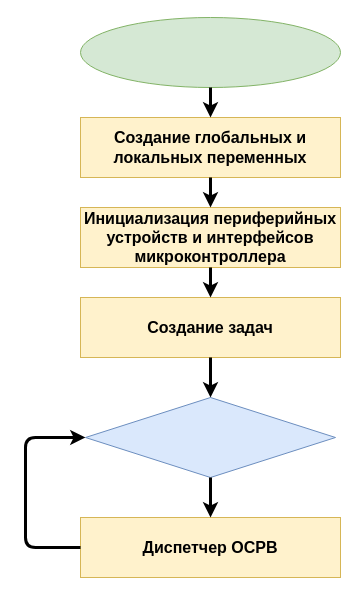
The diagram is 358 pixels wide and 595 high, and some of its shapes have lost their labels. The box of each missing label's shape, as (x1, y1, x2, y2) in pixels:
main(): (80, 16, 340, 88)
TRUE: (84, 396, 336, 478)
